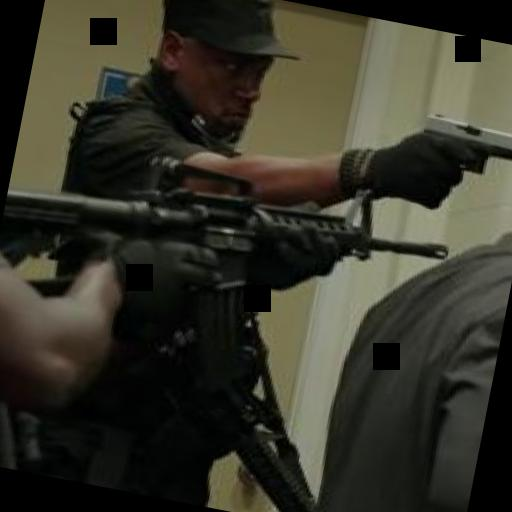Handgun: (407, 109, 512, 226)
